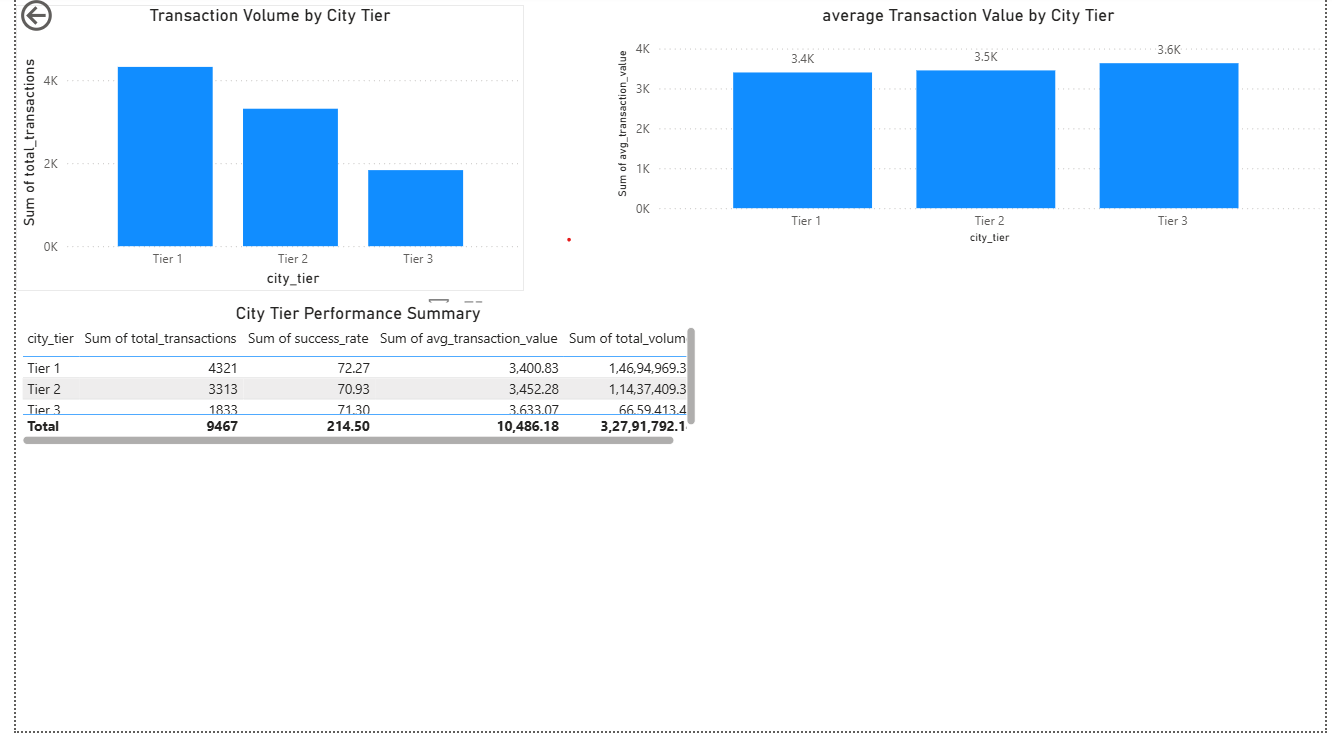

The page's visual inventory and layout, read from the dashboard file:
{"tool":"powerbi","page":{"name":"Regional & Payment Insights","canvas":[1280,720],"ordinal":1},"visuals":[{"type":"clusteredColumnChart","title":"Transaction Volume by City Tier","fields":{"Category":["q5_city_tier_analysis.city_tier"],"Y":["Sum(q5_city_tier_analysis.total_transactions)"]},"box":[0,9.6,496.7,279.9],"z":1},{"type":"clusteredColumnChart","title":"average Transaction Value by City Tier","fields":{"Y":["Sum(q5_city_tier_analysis.avg_transaction_value)"],"Category":["q5_city_tier_analysis.city_tier"]},"box":[583.2,9.6,697.1,238.8],"z":2},{"type":"tableEx","title":"City Tier Performance Summary","fields":{"Values":["q5_city_tier_analysis.city_tier","Sum(q5_city_tier_analysis.total_transactions)","Sum(q5_city_tier_analysis.success_rate)","Sum(q5_city_tier_analysis.avg_transaction_value)","Sum(q5_city_tier_analysis.total_volume)"]},"box":[0,300.5,669.6,144.1],"z":3},{"type":"actionButton","box":[0,0,100,40],"z":4}]}

Visuals, with their boxes in screenshot pixels (x1, y1, x2, y2), scaled from the page's 1280x720 canvas onto the 1332x740 screenshot:
"Transaction Volume by City Tier" clusteredColumnChart: {"left": 0, "top": 10, "right": 517, "bottom": 298}
"average Transaction Value by City Tier" clusteredColumnChart: {"left": 607, "top": 10, "right": 1331, "bottom": 255}
"City Tier Performance Summary" tableEx: {"left": 0, "top": 309, "right": 697, "bottom": 457}
actionButton: {"left": 0, "top": 0, "right": 104, "bottom": 41}
